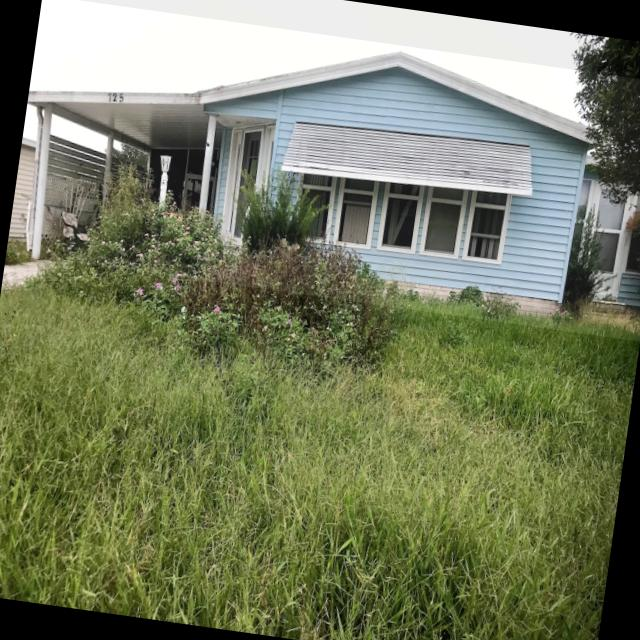House: (6, 0, 640, 342)
